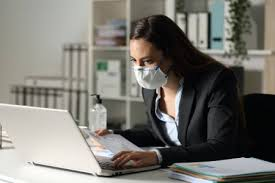mask: (134, 64, 169, 89)
